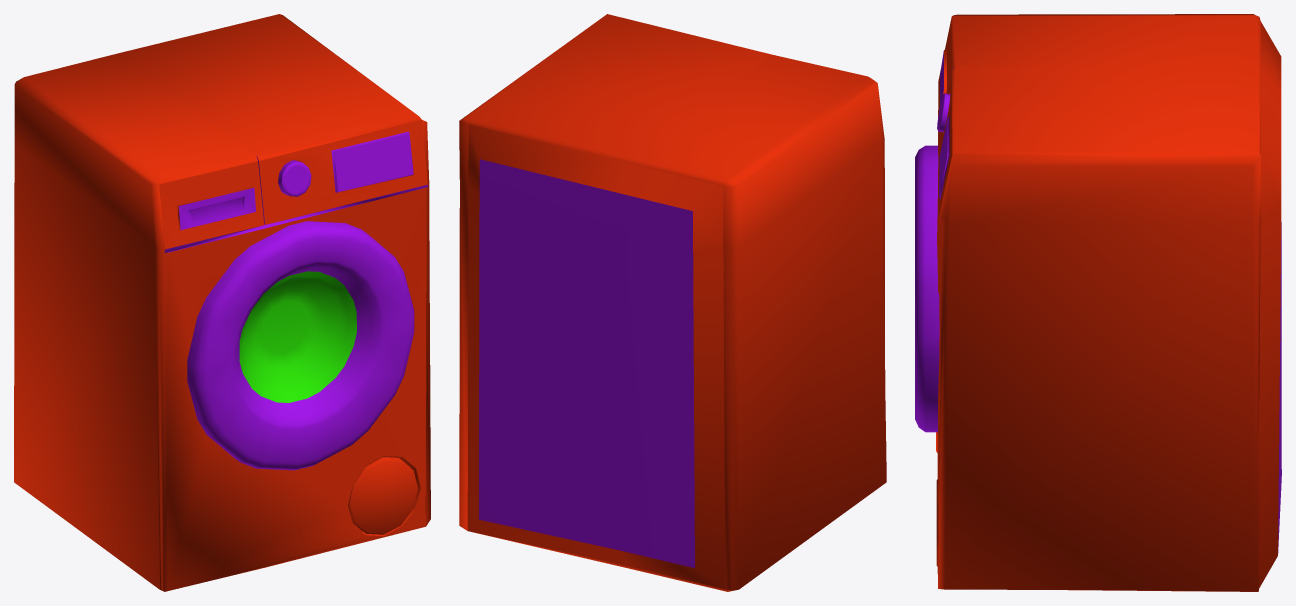
Rendered from Wasmachine.fbx.
3 views of the same model, side by side, from view 1: azimuth 30°, elevation 25°; view 2: azimuth 150°, elevation 25°; view 3: azimuth 270°, elevation 25° (orthographic). The views are drawn at different scales.
Visible parts, largest first — view 1: Cylinder; view 2: Cylinder; view 3: Cylinder.
Boxes of the visible parts, bbox=[...] form: Cylinder: bbox=[14, 14, 430, 591]; Cylinder: bbox=[459, 14, 886, 591]; Cylinder: bbox=[915, 14, 1281, 591].
Size of the model in its own units: 59.8 by 84.5 by 63.6.
